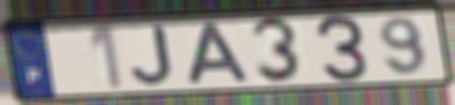1: (85, 22, 125, 93)
3: (247, 14, 306, 87), (312, 12, 369, 85)
9: (376, 14, 430, 78)
A: (185, 21, 254, 87)
J: (129, 23, 177, 87)
